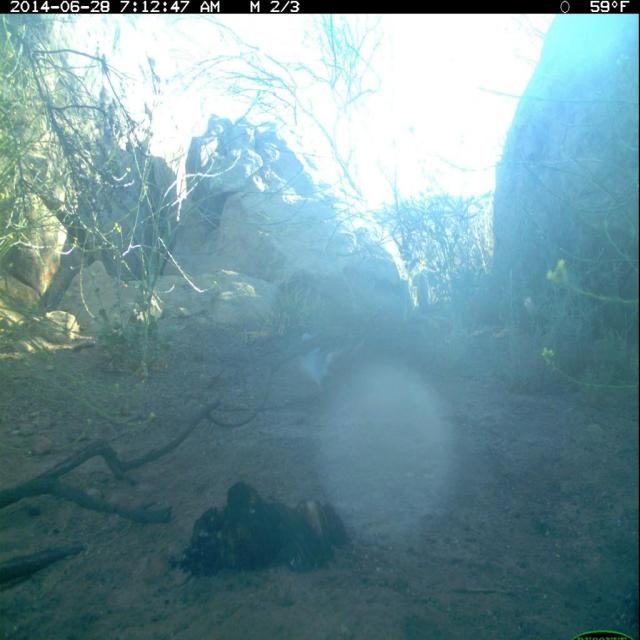bird: (295, 330, 349, 396)
